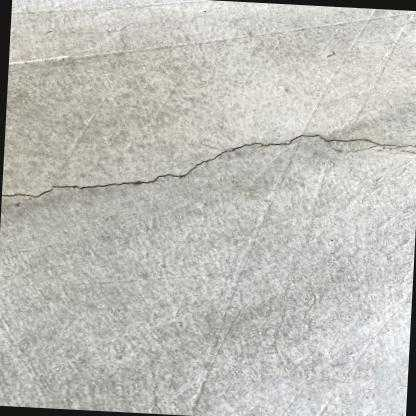crack: (0, 135, 395, 197), (390, 145, 416, 149), (399, 150, 416, 153)
